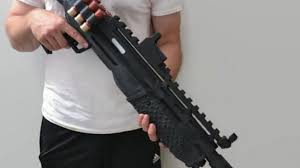Gun: (96, 23, 191, 153)
